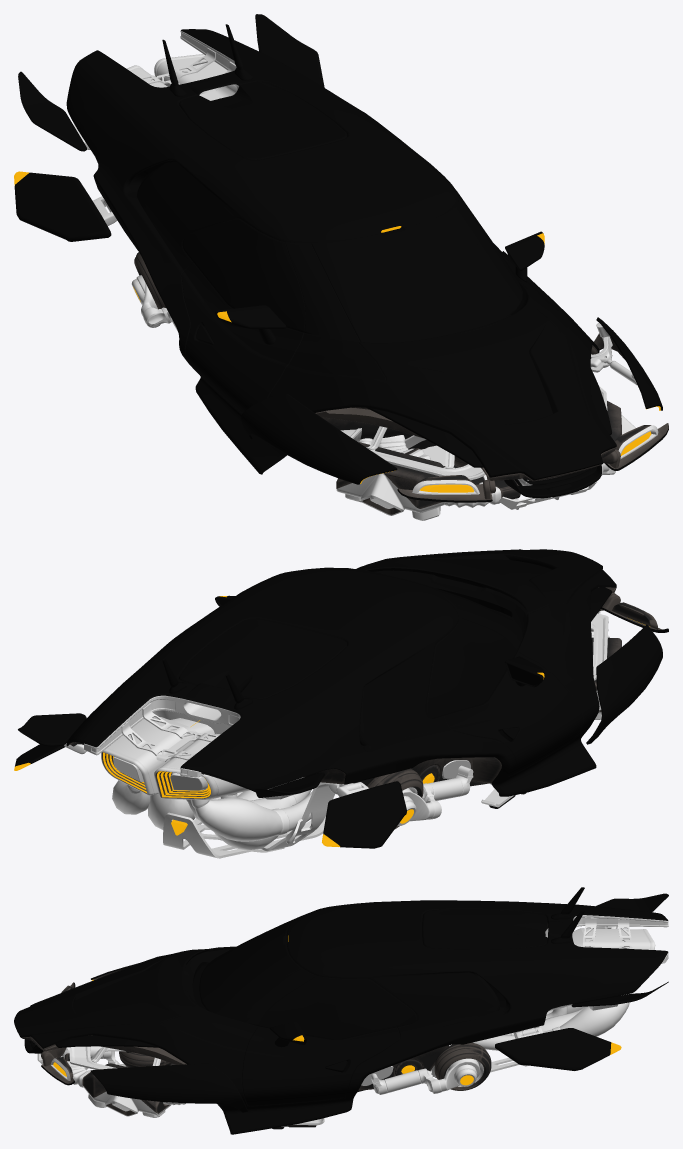
File: SciFiCar.fbx
3 views of the same model, one above another, from view 1: azimuth 30°, elevation 25°; view 2: azimuth 150°, elevation 25°; view 3: azimuth 270°, elevation 25° (orthographic). The views are drawn at different scales.
Parts seen in each view (by area): view 1: SciFiCar; view 2: SciFiCar; view 3: SciFiCar.
Part boxes in pixels (box(x1,y1,x2,y2)): SciFiCar: box(14, 14, 668, 520); SciFiCar: box(14, 549, 668, 858); SciFiCar: box(14, 887, 668, 1134).
Size of the model in its own units: 301 by 194 by 626.
